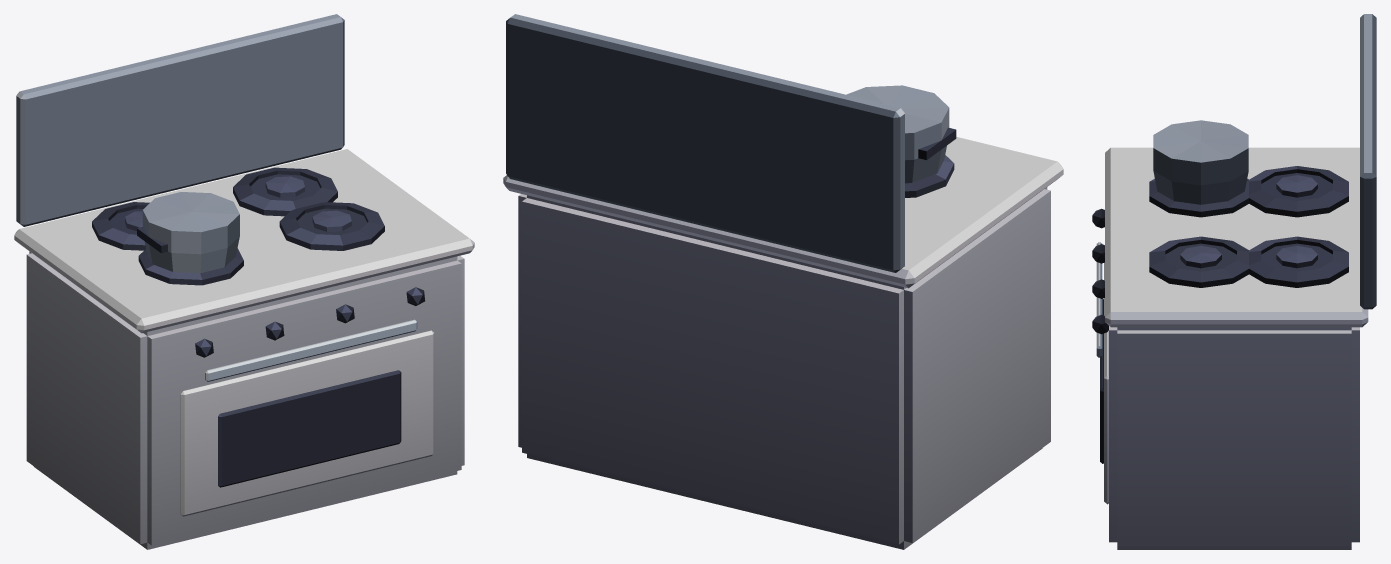
The model's file is stove.glb.
3 views of the same model, side by side, from view 1: azimuth 30°, elevation 25°; view 2: azimuth 150°, elevation 25°; view 3: azimuth 270°, elevation 25° (orthographic). The views are drawn at different scales.
Visible parts, largest first — view 1: stove; view 2: stove; view 3: stove.
Part boxes in pixels (bbox=[...]): stove: bbox=[14, 14, 474, 549]; stove: bbox=[503, 14, 1063, 549]; stove: bbox=[1092, 14, 1376, 549].
Bounding box in the file's own units: 0.96 × 1 × 0.6801.
